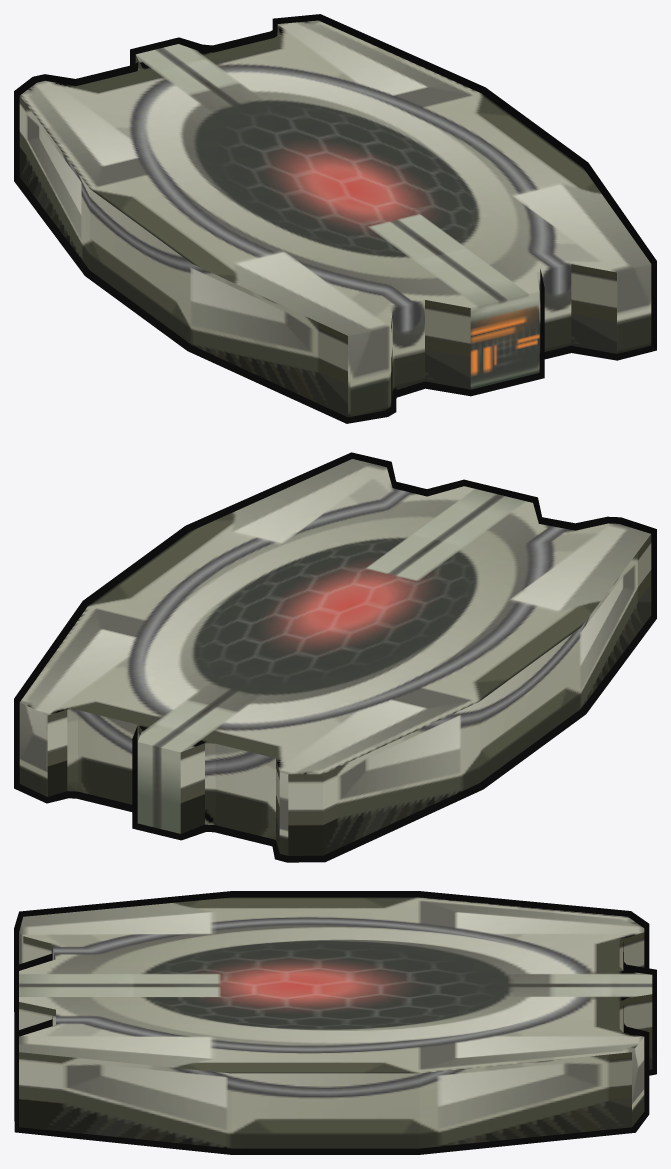
File: Building_CerebrexStabilizer_Things_Building_CerebrexStabilizer_CerebrexStabilizer.glb
3 views of the same model, one above another, from view 1: azimuth 30°, elevation 25°; view 2: azimuth 150°, elevation 25°; view 3: azimuth 270°, elevation 25° (orthographic). The views are drawn at different scales.
Parts seen in each view (by area): view 1: Body, Outline; view 2: Body, Outline; view 3: Body, Outline.
Part boxes in pixels (x1=…): Body: x1=19, y1=20, x2=651, y2=417; Outline: x1=14, y1=14, x2=656, y2=423; Body: x1=19, y1=459, x2=651, y2=855; Outline: x1=14, y1=452, x2=656, y2=862; Body: x1=19, y1=897, x2=652, y2=1148; Outline: x1=14, y1=891, x2=656, y2=1154.
Bounding box in the file's own units: 1.46 × 0.3226 × 2.2.
Materials: 2 (1 with a texture image).
